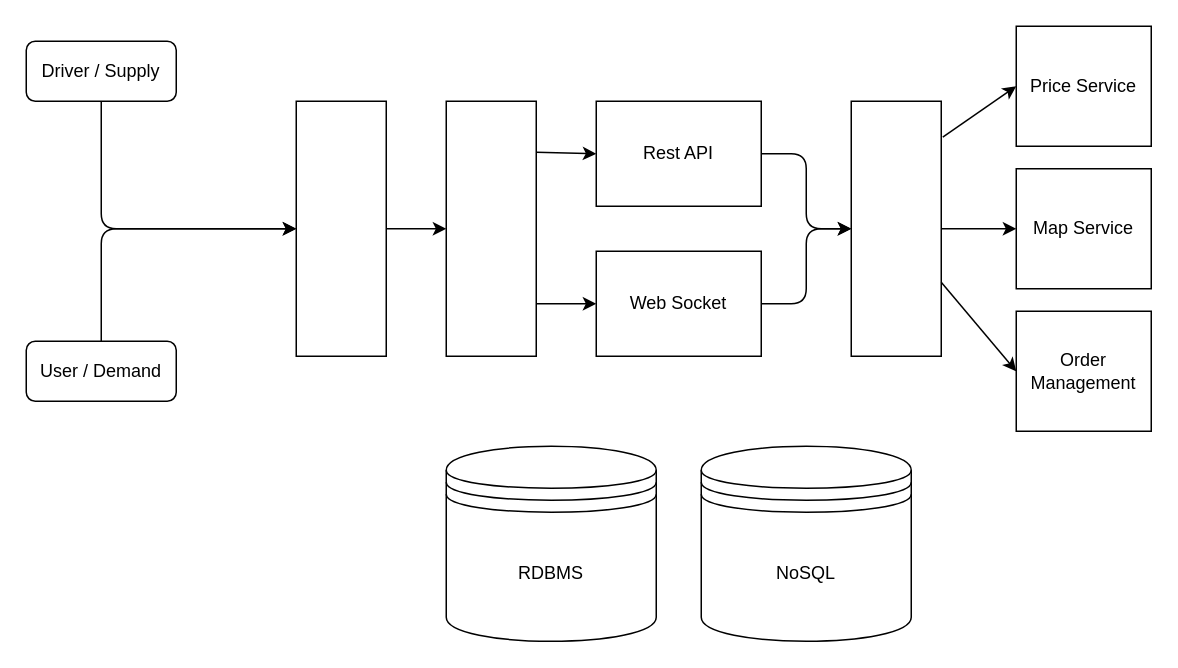
Some shapes in this 1178 by 668 pixel diagram are drawn without their labels. Each missing label, with the centre of its shape:
"Firewall" belongs at pixel 340 228.
"Kafka" belongs at pixel 895 228.
"LB" belongs at pixel 490 228.
